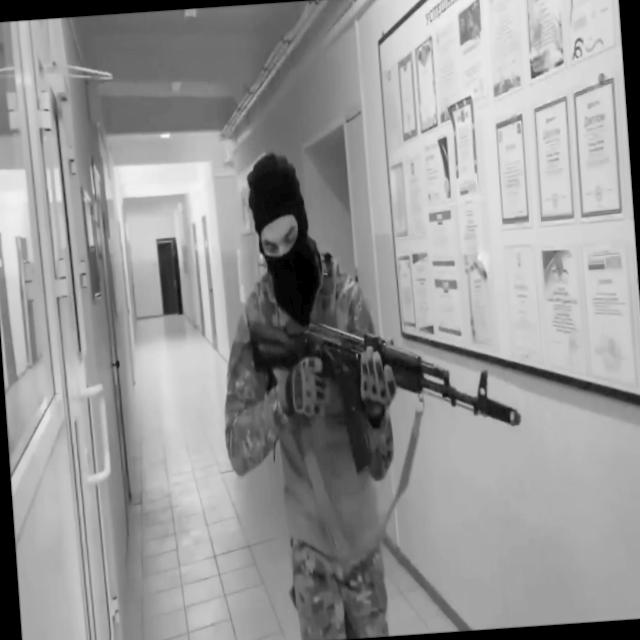gun: (246, 296, 526, 488)
person with a gun: (203, 134, 538, 640)
